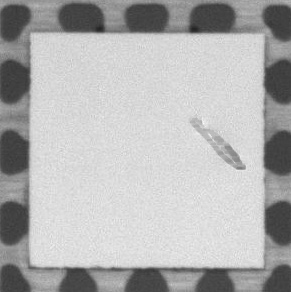DIE_INK: (187, 115, 246, 171)
